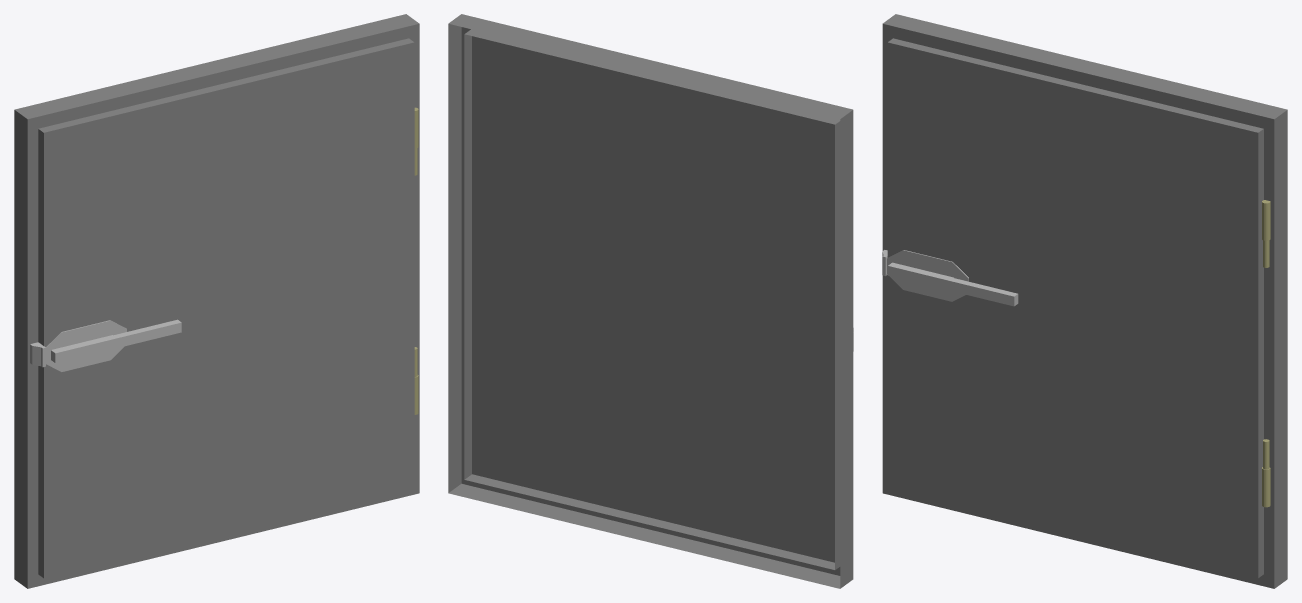
File: Fire_BIG_refrigerator.fbx
3 views of the same model, side by side, from view 1: azimuth 30°, elevation 25°; view 2: azimuth 150°, elevation 25°; view 3: azimuth 330°, elevation 25° (orthographic).
Parts seen in each view (by area): view 1: big_refrigerator, Doorknob, hinge; view 2: big_refrigerator; view 3: big_refrigerator, Doorknob, hinge.
Part boxes in pixels (x1,y1,x2,y2): big_refrigerator: (14,14,419,588); Doorknob: (30,319,181,371); hinge: (414,107,418,414); big_refrigerator: (448,14,853,588); big_refrigerator: (882,14,1287,588); Doorknob: (882,250,1018,306); hinge: (1262,200,1270,507).
Size of the model in its own units: 1144 by 1310 by 124.
